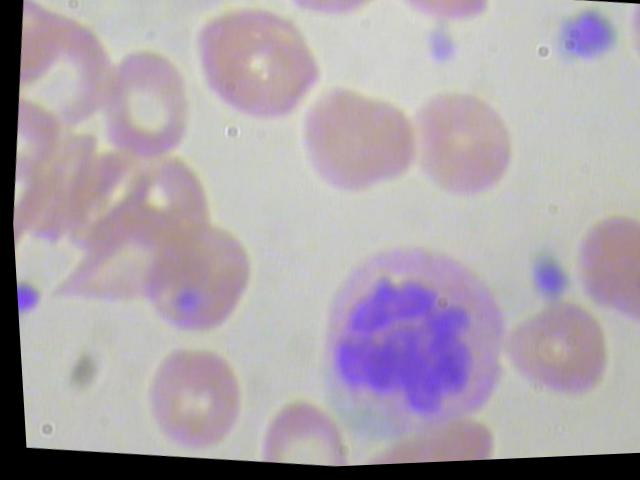Platelets: (547, 9, 624, 80), (520, 253, 573, 313), (420, 24, 465, 71), (13, 275, 41, 329)
Red Blood Cells: (183, 3, 334, 138), (120, 334, 252, 466), (397, 84, 529, 215), (291, 77, 423, 208), (127, 216, 259, 347), (487, 302, 614, 414), (90, 46, 201, 172), (567, 208, 639, 334), (249, 393, 351, 471)
White Blood Cells: (290, 231, 520, 461)
